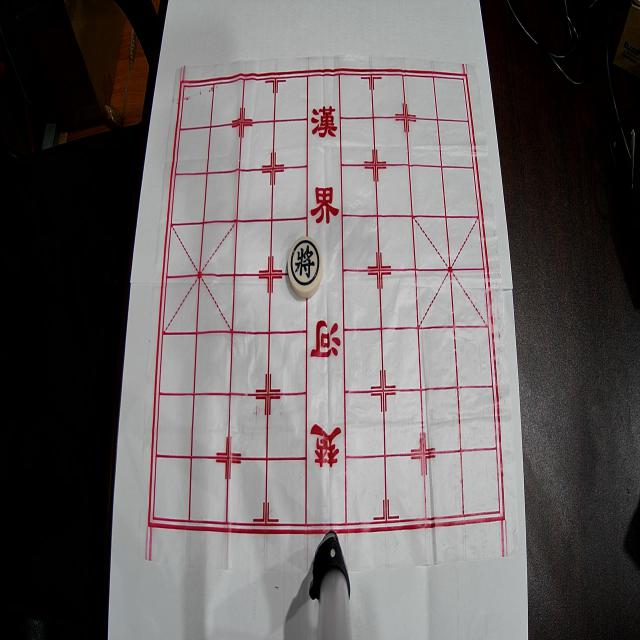black-general: (288, 236, 323, 298)
